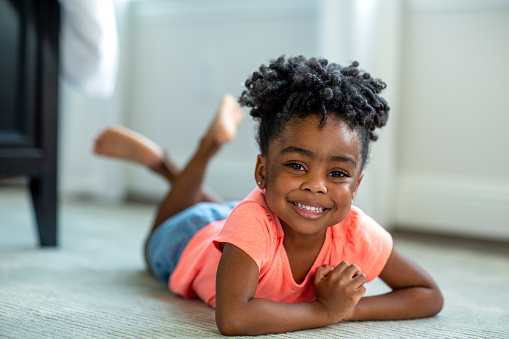person: (246, 55, 375, 238)
